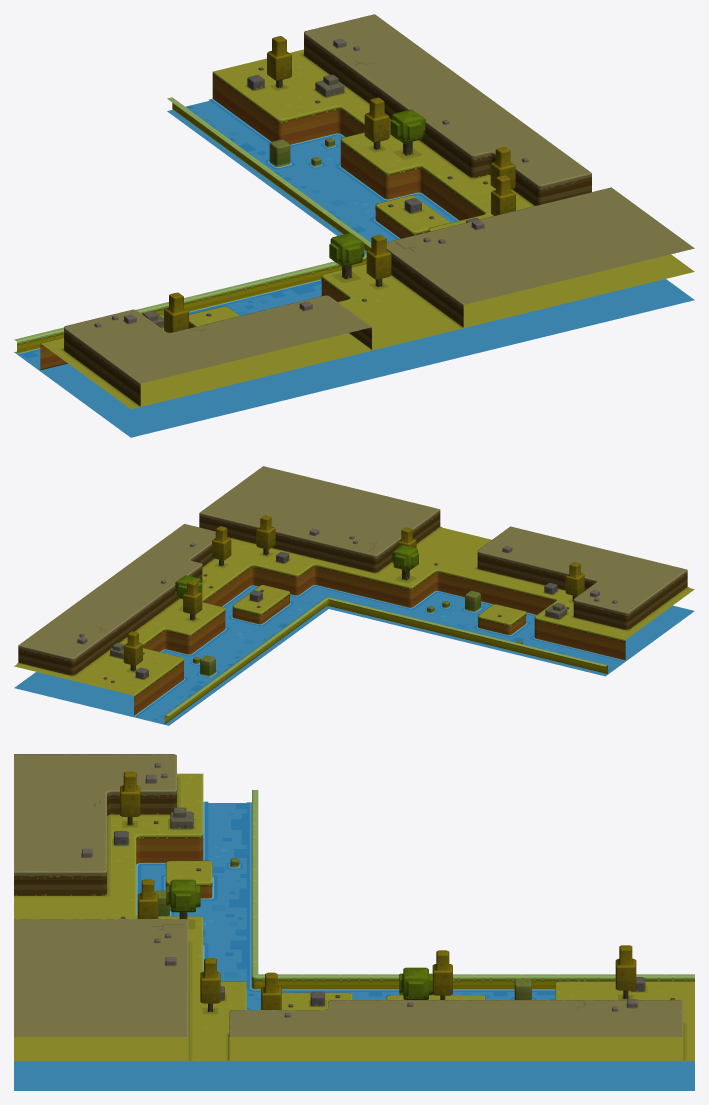
File: C_water2_out_LU.fbx
The picture shows the model from 3 angles, top to bottom: view 1: azimuth 30°, elevation 25°; view 2: azimuth 150°, elevation 25°; view 3: azimuth 270°, elevation 25°; orthographic projection. The views are drawn at different scales.
Parts seen in each view (by area): view 1: C_water2_out_LU; view 2: C_water2_out_LU; view 3: C_water2_out_LU.
Part boxes in pixels (x1,y1,x2,y2): C_water2_out_LU: [14, 14, 694, 437]; C_water2_out_LU: [14, 466, 694, 725]; C_water2_out_LU: [14, 754, 694, 1090].
Bounding box in the file's own units: 117 × 15.34 × 117.
